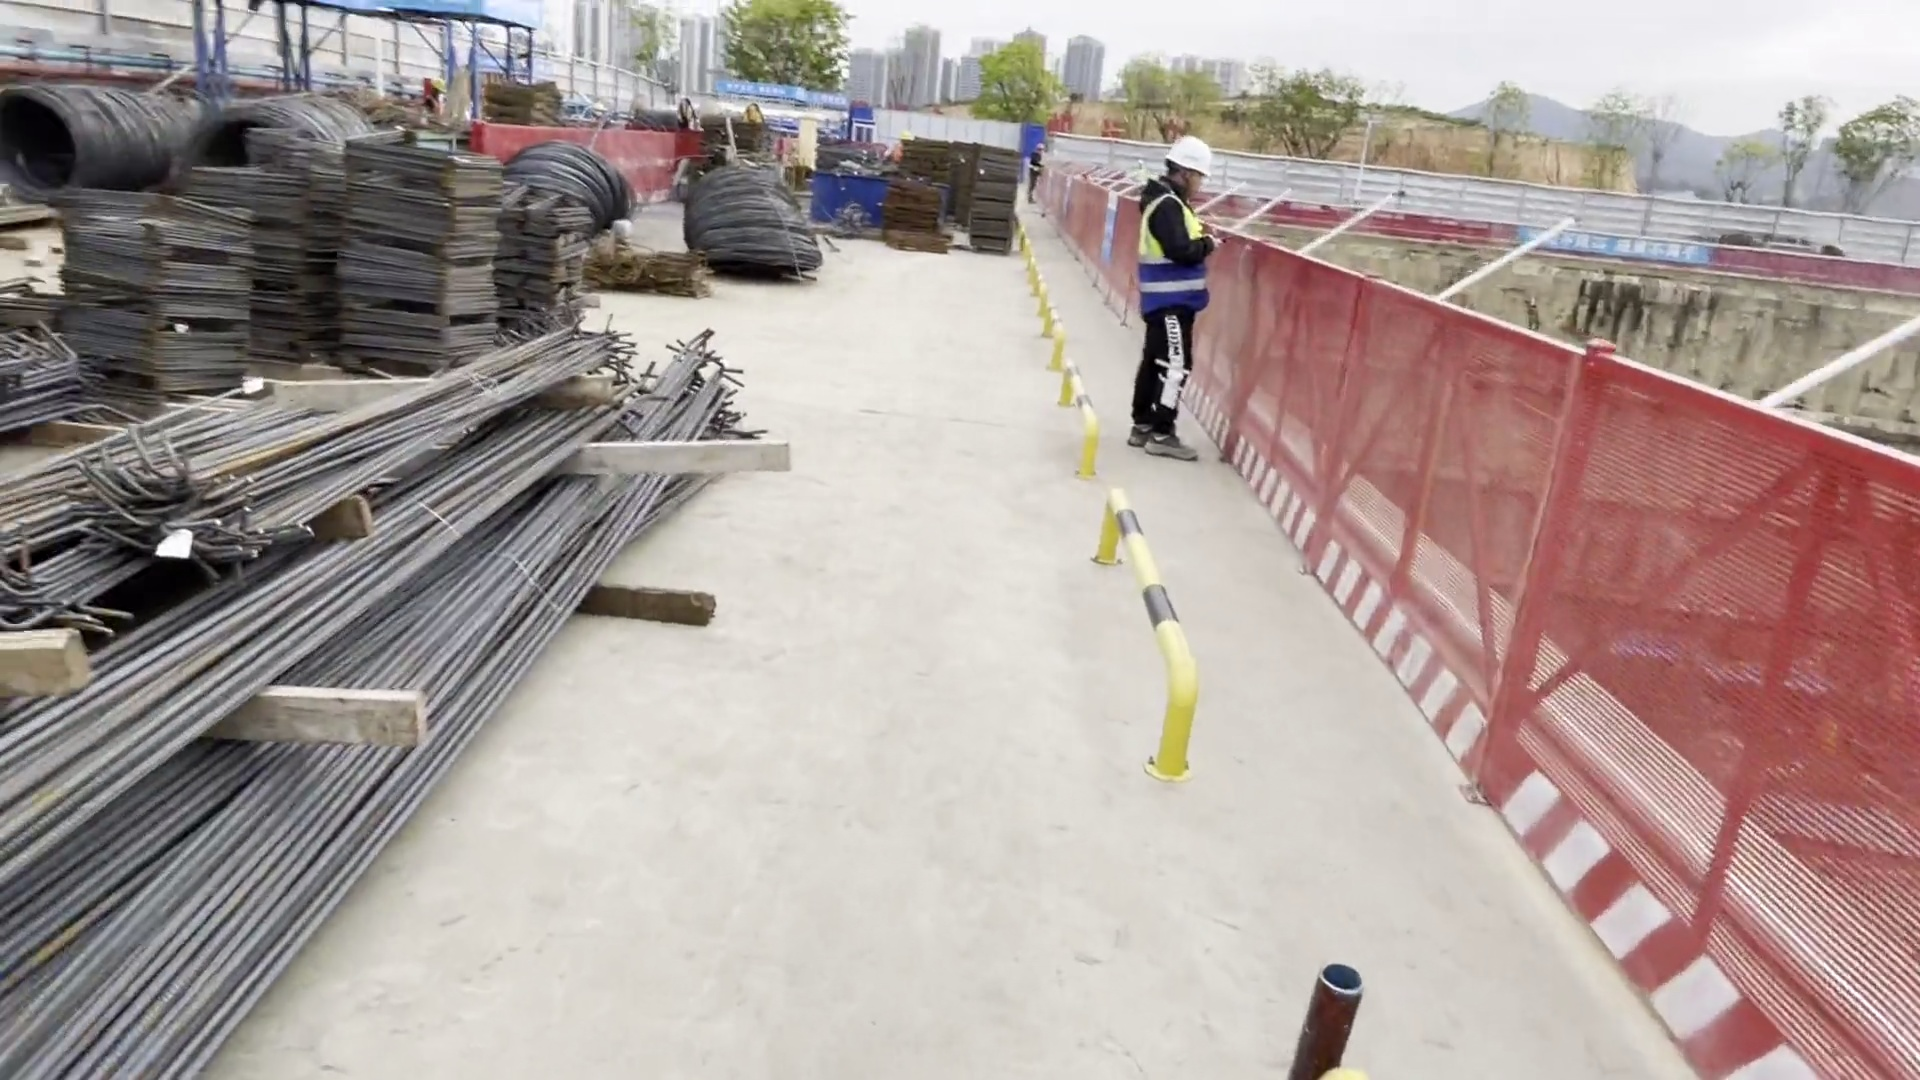fence: (1570, 352, 1920, 1077), (1225, 233, 1562, 787), (476, 117, 677, 202), (1050, 170, 1133, 297)
helmet: (1164, 135, 1215, 177)
hopper: (810, 173, 887, 231)
person: (1130, 135, 1218, 468), (883, 134, 911, 162), (1028, 141, 1042, 198), (422, 75, 441, 113)
rebar: (3, 339, 763, 1080)
slogan: (1517, 228, 1710, 268), (704, 80, 846, 105)
vest: (1136, 192, 1206, 323)
